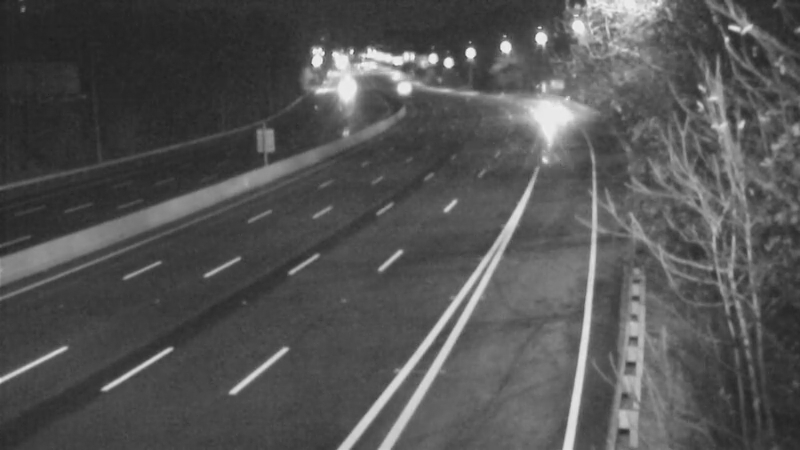vehicle: (371, 52, 421, 102), (376, 62, 426, 112), (522, 88, 572, 138), (321, 64, 371, 114)
